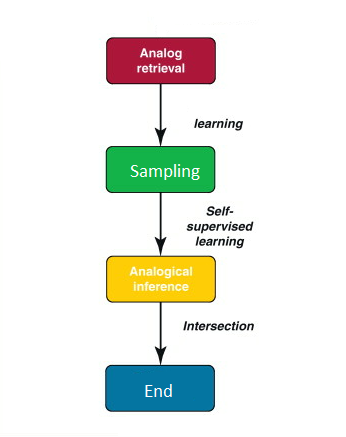arrow: (153, 84, 169, 144), (154, 193, 167, 256), (154, 301, 167, 363)
process: (103, 361, 218, 415), (103, 143, 219, 196), (103, 252, 217, 305), (102, 34, 218, 86)
text: (185, 205, 256, 247), (128, 264, 195, 292), (134, 46, 187, 76), (127, 160, 202, 180), (181, 318, 255, 333), (189, 117, 244, 133), (141, 381, 175, 399)
